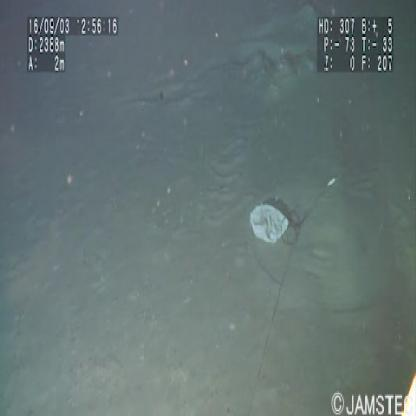Rác: (246, 197, 296, 248)
